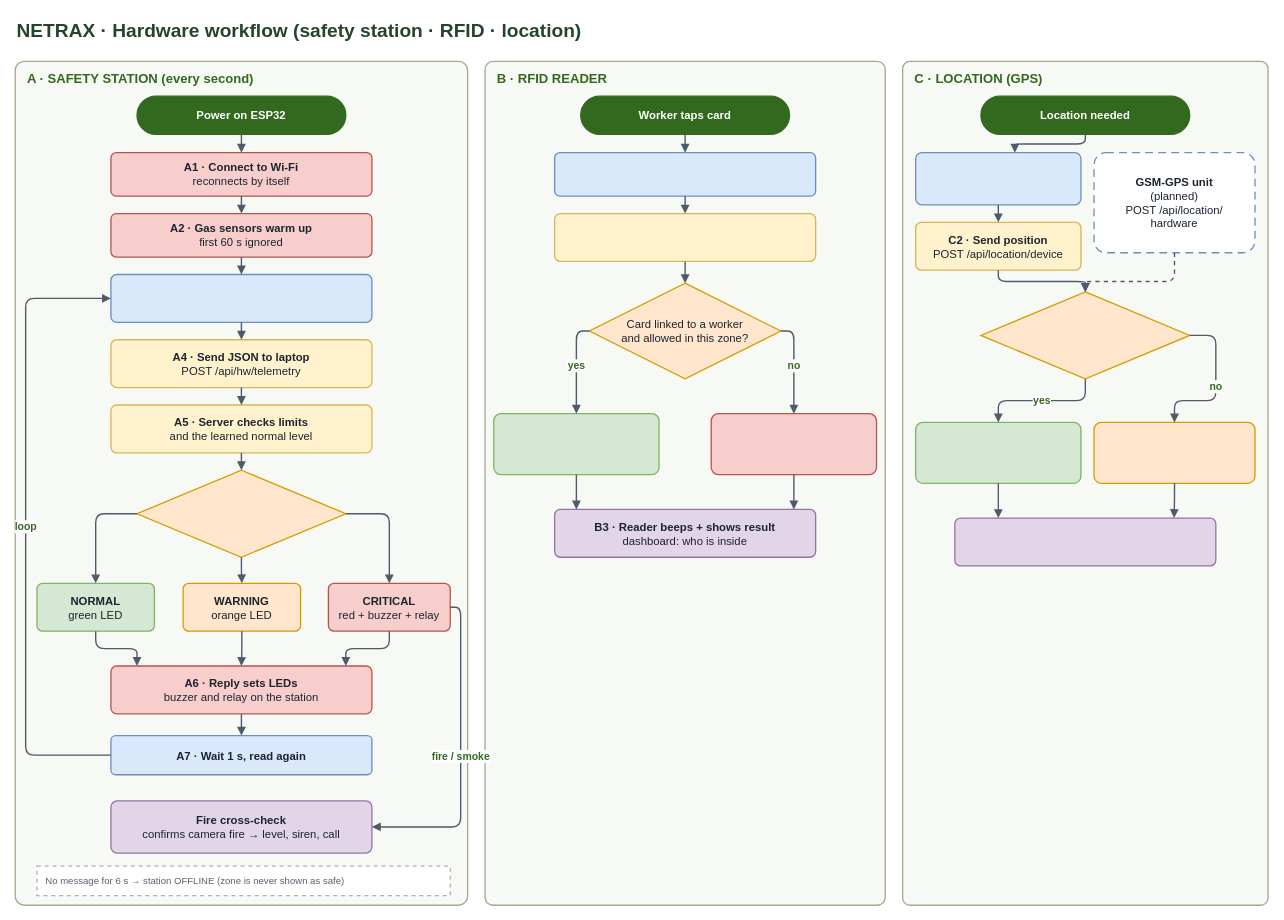
This 1284x920 diagram has some shape labels left out. The centre of each missing label's shape, as x and y in pixels:
"A3 · Read all sensors temp · flame · smoke · gas · FSR · dust" goes at (241,298).
"ACCESS DENIED unknown card or not allowed alert to supervisor" goes at (793,444).
"B1 · RC522 reads card UID" goes at (685,174).
"B2 · Send UID to laptop POST /api/rfid" goes at (685,237).
"C1 · Allow location browser / phone GPS" goes at (998,178).
"C3 · Attach GPS position to incident (map link)" goes at (998,452).
"C4 · Shown on dashboard and in Telegram / e-mail" goes at (1085,541).
"ENTERED / EXITED attendance saved “Welcome …” on speaker" goes at (576,444).
"Fresh fix? (GPS ≤ 15 min)" goes at (1085,335).
"Level?" goes at (241,513).
"Use site position (site.yaml), else “Location unavailable”" goes at (1174,452).
